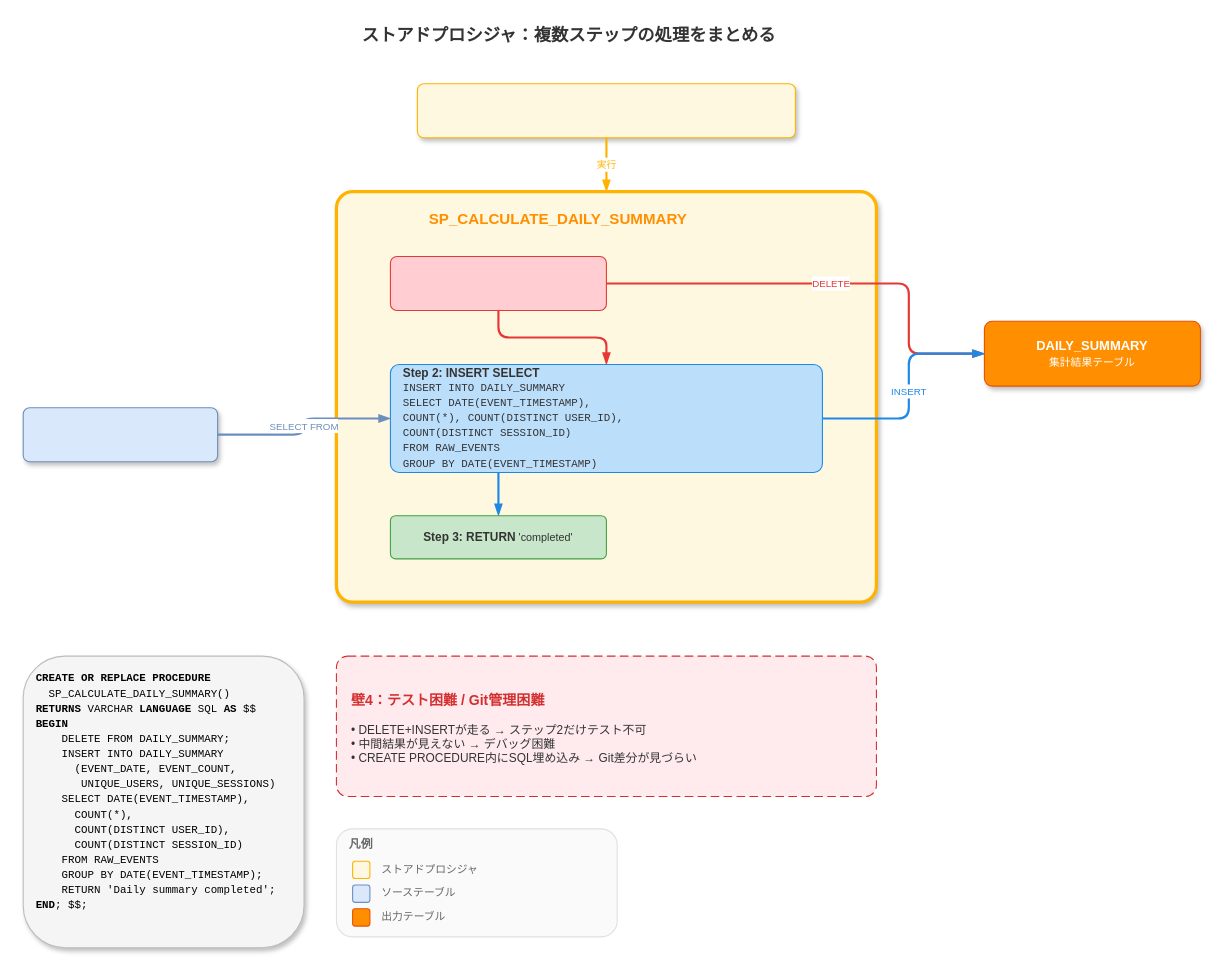
Image size: 1226x974. Some labels were removed from this diagram. The centre of each missing label's shape, as x and y in pixels:
CALL SP_CALCULATE_DAILY_SUMMARY(): the point at 607,111
RAW_EVENTS ソーステーブル: the point at 121,435
Step 1: DELETE DELETE FROM DAILY_SUMMARY: the point at 497,282
